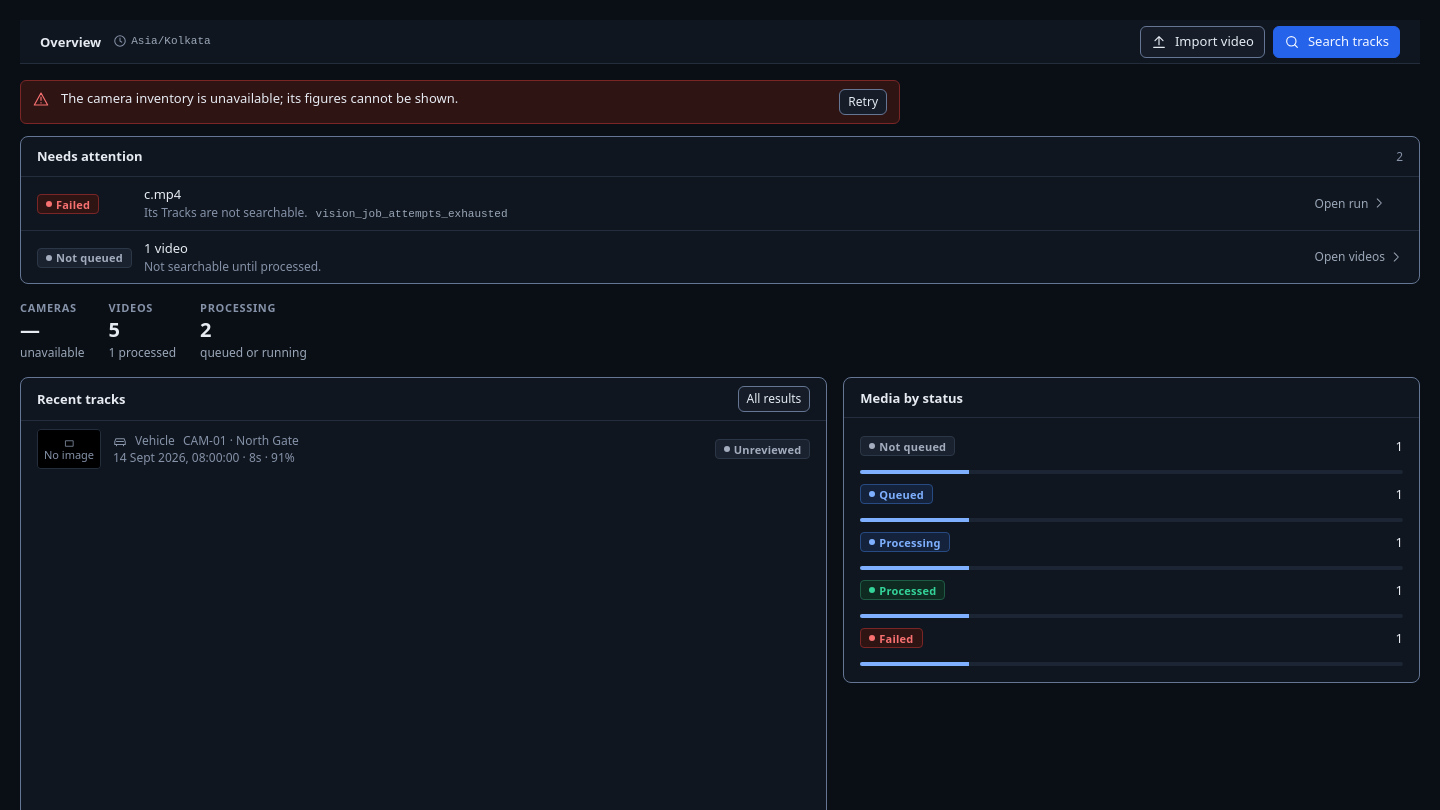
Test: OverviewPage › states an unavailable camera inventory as unavailable, with a retry
Check: the text "camera inventory is unavailable" is shown, box [61,89,458,107]
Check: the link "Cameras — unavailable" is shown, box [20,300,85,361]
Click the button "Retry": (863, 102) [839,89,887,115]
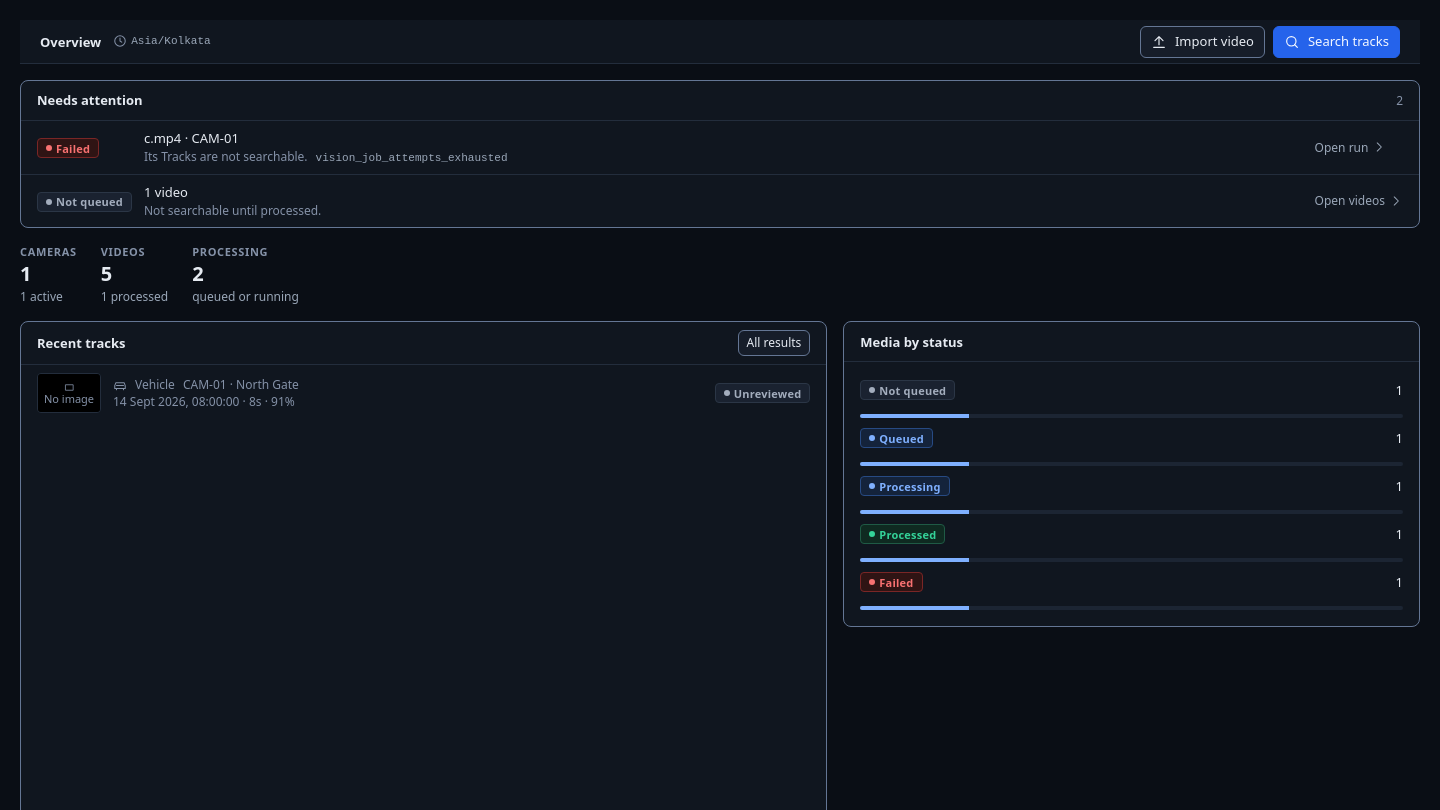
Check: the link "Cameras 1 1 active" is shown, box [20,244,77,305]
